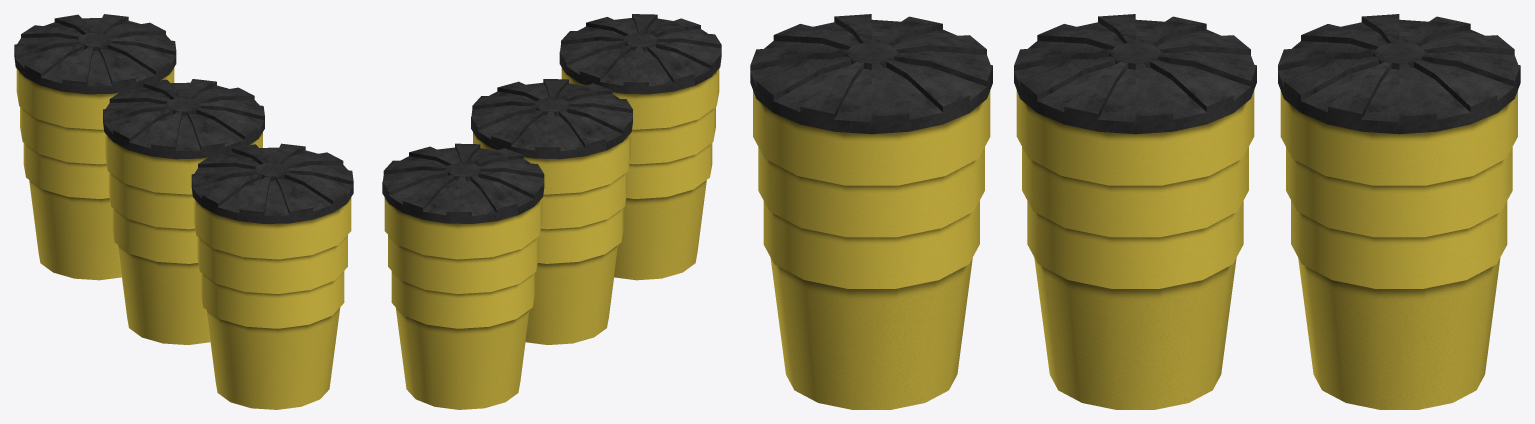
File: GSDRoadBarrel3.fbx
The picture shows the model from 3 angles, left to right: view 1: azimuth 30°, elevation 25°; view 2: azimuth 150°, elevation 25°; view 3: azimuth 270°, elevation 25°; orthographic projection. The views are drawn at different scales.
Parts seen in each view (by area): view 1: GSDRoadBarrel3; view 2: GSDRoadBarrel3; view 3: GSDRoadBarrel3.
Part boxes in pixels (box(x1,y1,x2,y2)): GSDRoadBarrel3: box(14, 14, 353, 409); GSDRoadBarrel3: box(382, 14, 721, 409); GSDRoadBarrel3: box(750, 14, 1520, 409).
Size of the model in its own units: 0.92 by 1.35 by 2.92.
